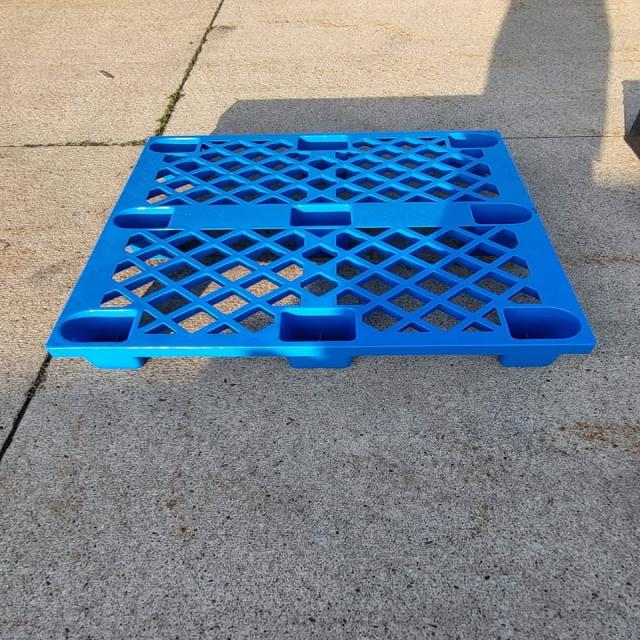non-igps: (37, 127, 603, 378)
